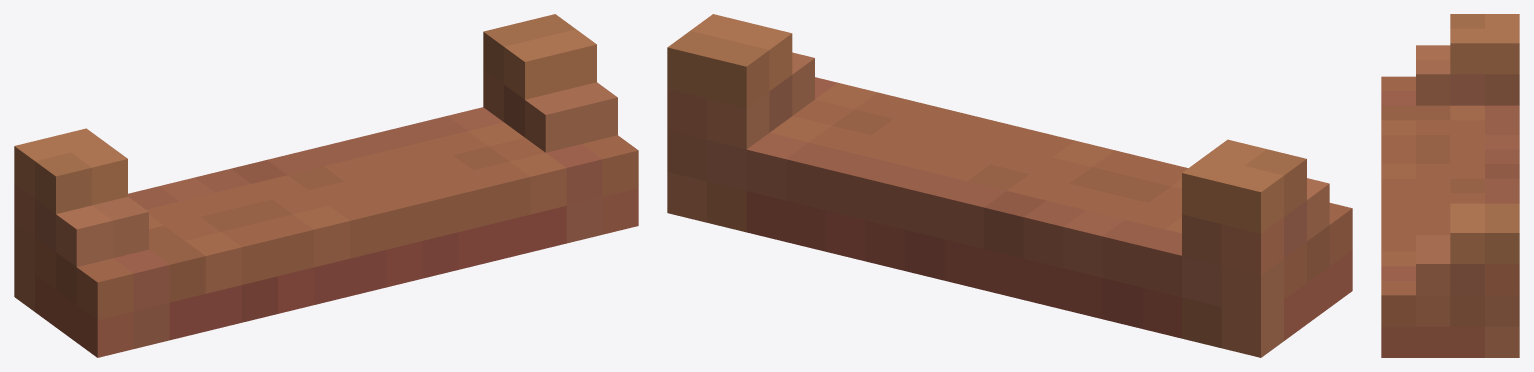
File: shelf_B_large.glb
3 views of the same model, side by side, from view 1: azimuth 30°, elevation 25°; view 2: azimuth 150°, elevation 25°; view 3: azimuth 270°, elevation 25° (orthographic). The views are drawn at different scales.
Parts seen in each view (by area): view 1: shelf_B_large; view 2: shelf_B_large; view 3: shelf_B_large.
Boxes of the visible parts, x1,y1,x2,y2 form: shelf_B_large: [14, 14, 638, 357]; shelf_B_large: [667, 14, 1352, 357]; shelf_B_large: [1381, 14, 1519, 357].
Size of the model in its own units: 2.14 by 0.5716 by 0.5716.
Materials: 1 (1 with a texture image).
